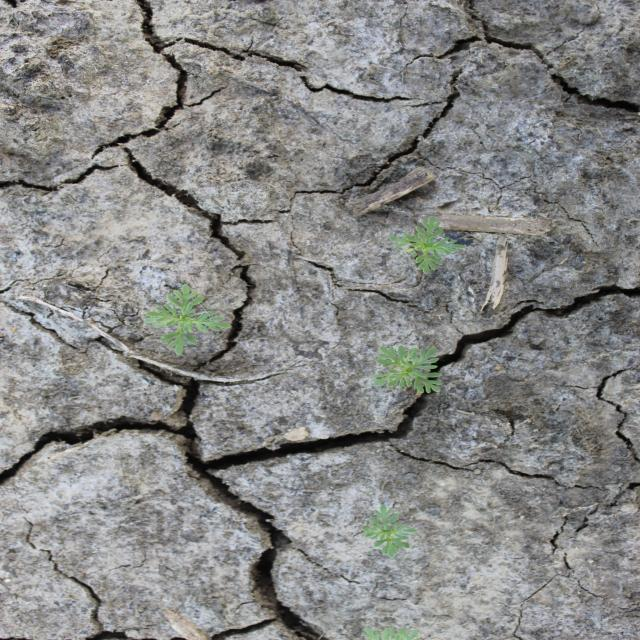Ragweed: (140, 283, 234, 356), (385, 214, 468, 275), (370, 342, 447, 394), (360, 502, 419, 559), (360, 624, 421, 638)
